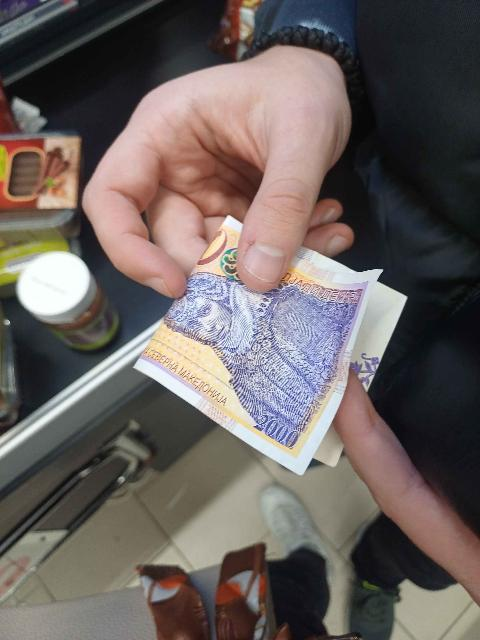2000_note: (136, 218, 380, 473)
